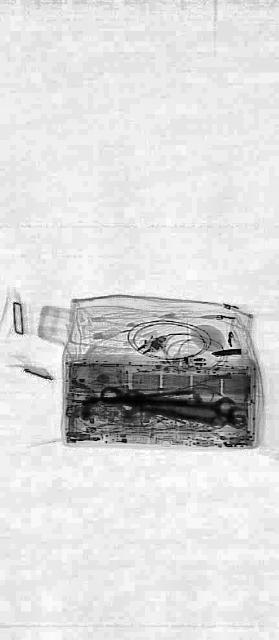Wrench: (100, 378, 236, 424)
